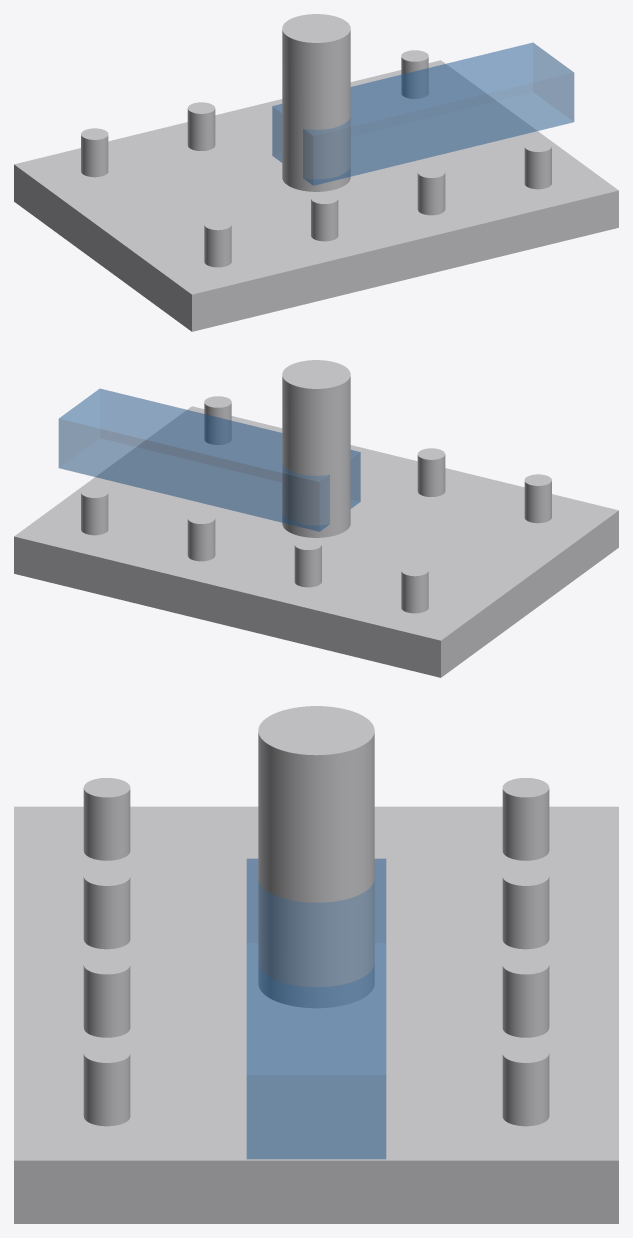
Rendered from animated.glb.
3 renders of one model, top to bottom at view 1: azimuth 30°, elevation 25°; view 2: azimuth 150°, elevation 25°; view 3: azimuth 270°, elevation 25°, orthographic. The views are drawn at different scales.
Visible parts, largest first — view 1: base, arm, shaft, pin_2_-18, pin_1_18, pin_1_-18, pin_3_-18, pin_0_-18, pin_0_18, pin_3_18; view 2: base, arm, shaft, pin_2_18, pin_1_-18, pin_1_18, pin_3_18, pin_0_18, pin_0_-18, pin_3_-18; view 3: base, arm, shaft, pin_1_-18, pin_1_18, pin_3_-18, pin_3_18, pin_0_-18, pin_0_18, pin_2_-18, pin_2_18.
Boxes of the visible parts, bbox=[...] form: base: bbox=[14, 60, 618, 331]; arm: bbox=[272, 42, 574, 185]; shaft: bbox=[282, 14, 350, 191]; pin_2_-18: bbox=[417, 166, 445, 215]; pin_1_18: bbox=[187, 102, 215, 150]; pin_1_-18: bbox=[311, 192, 338, 241]; pin_3_-18: bbox=[524, 140, 551, 189]; pin_0_-18: bbox=[204, 218, 231, 267]; pin_0_18: bbox=[81, 128, 108, 177]; pin_3_18: bbox=[401, 50, 428, 98]; base: bbox=[14, 406, 618, 677]; arm: bbox=[58, 388, 360, 531]; shaft: bbox=[282, 360, 350, 537]; pin_2_18: bbox=[187, 512, 215, 561]; pin_1_-18: bbox=[417, 448, 445, 496]; pin_1_18: bbox=[294, 538, 321, 587]; pin_3_18: bbox=[81, 486, 108, 535]; pin_0_18: bbox=[401, 564, 428, 613]; pin_0_-18: bbox=[524, 474, 551, 523]; pin_3_-18: bbox=[204, 396, 231, 444]; base: bbox=[14, 806, 618, 1223]; arm: bbox=[246, 858, 386, 1159]; shaft: bbox=[258, 706, 374, 1008]; pin_1_-18: bbox=[83, 866, 130, 949]; pin_1_18: bbox=[502, 866, 549, 949]; pin_3_-18: bbox=[83, 1043, 130, 1126]; pin_3_18: bbox=[502, 1043, 549, 1126]; pin_0_-18: bbox=[83, 778, 130, 860]; pin_0_18: bbox=[502, 778, 549, 860]; pin_2_-18: bbox=[83, 955, 130, 1037]; pin_2_18: bbox=[502, 955, 549, 1037].
Bounding box in the file's own units: 0.076 × 0.03 × 0.052.
